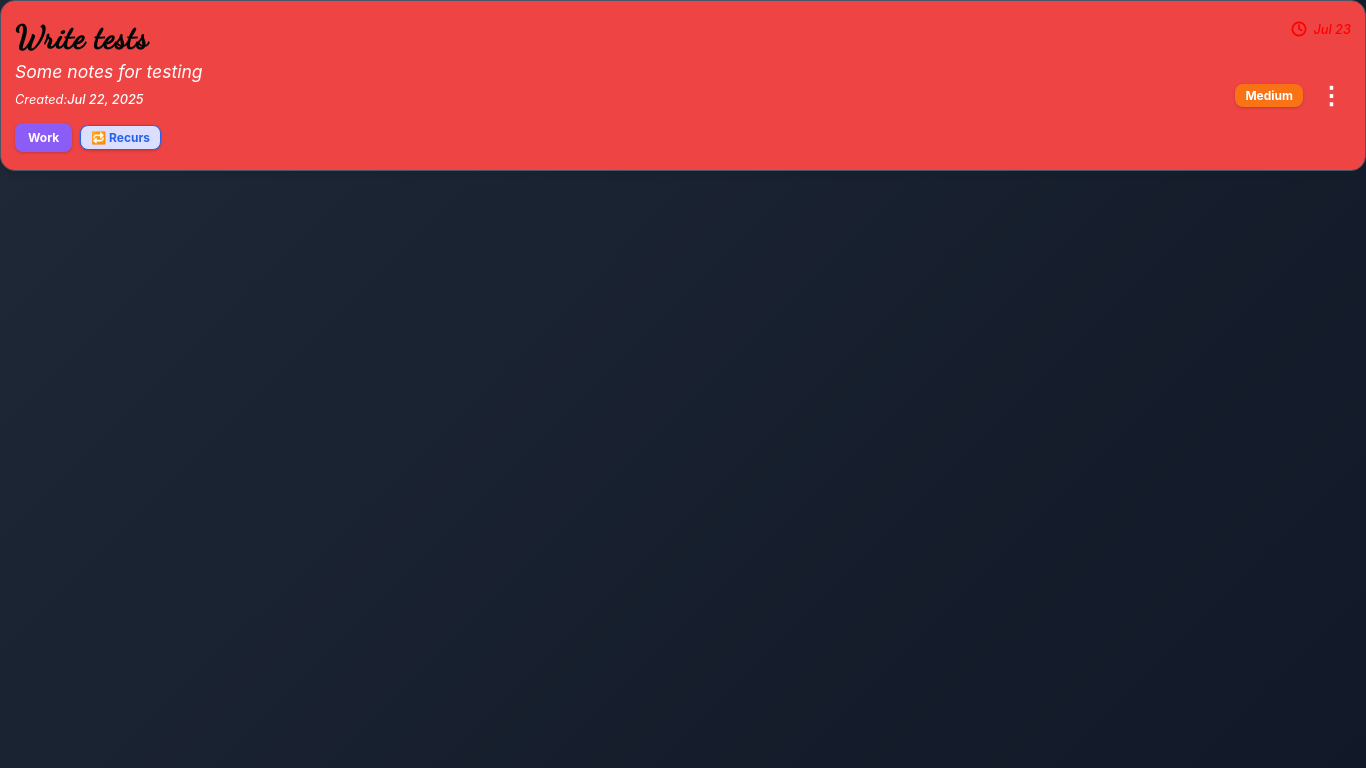
Test case: TodoItem › shows tooltips and recurrence popup correctly
The width and height of the screenshot is (1366, 768).
Hover over the text "Created:Jul 22, 2025".
mouse_move(79, 100)  # box [15,92,144,107]
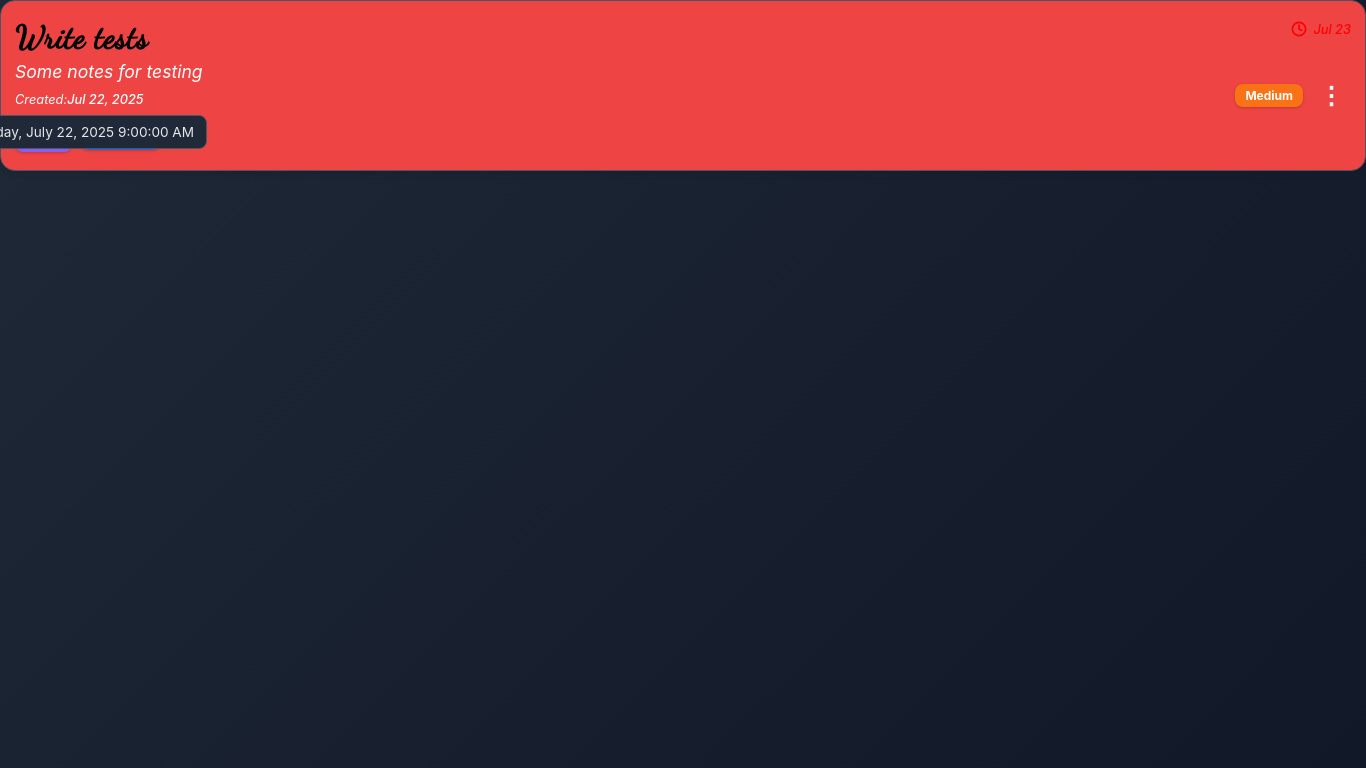
Move the pointer off the text "Created:Jul 22, 2025", box [15,92,144,107]
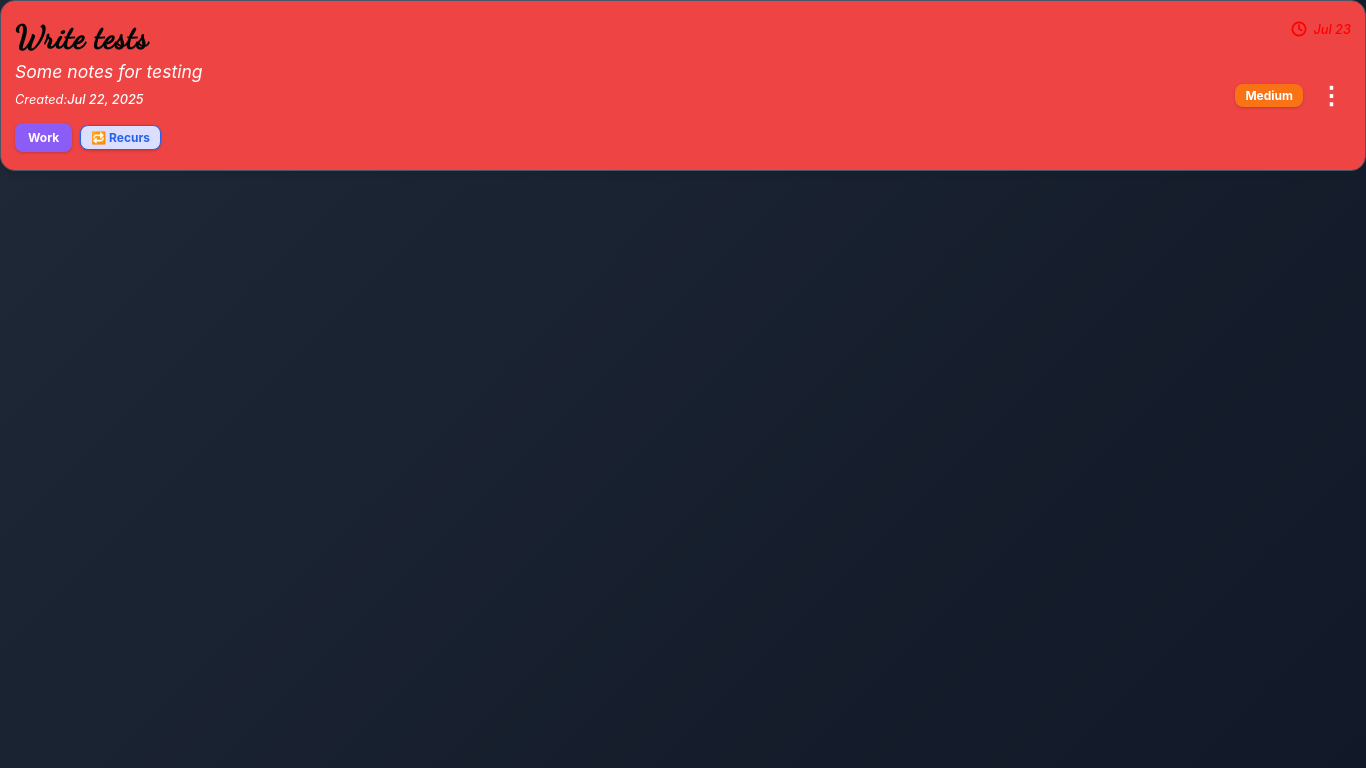
Click the text "🔁 Recurs".
click(121, 138)  # box [80,125,161,150]
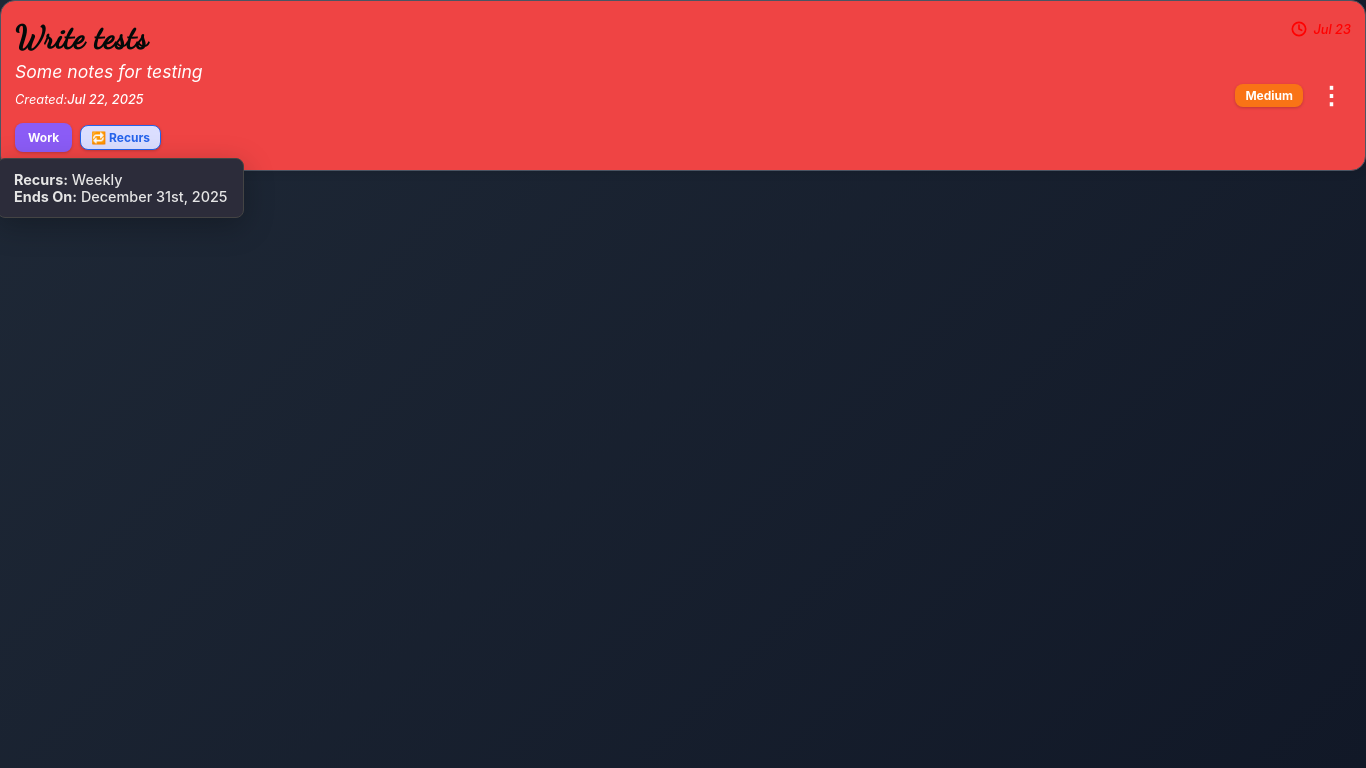
expect the text "Recurs:" is shown: met, box [14,171,68,188]
Press the mouse on the element that starts with "Write tests" at [683, 384], box [0,0,1365,767]
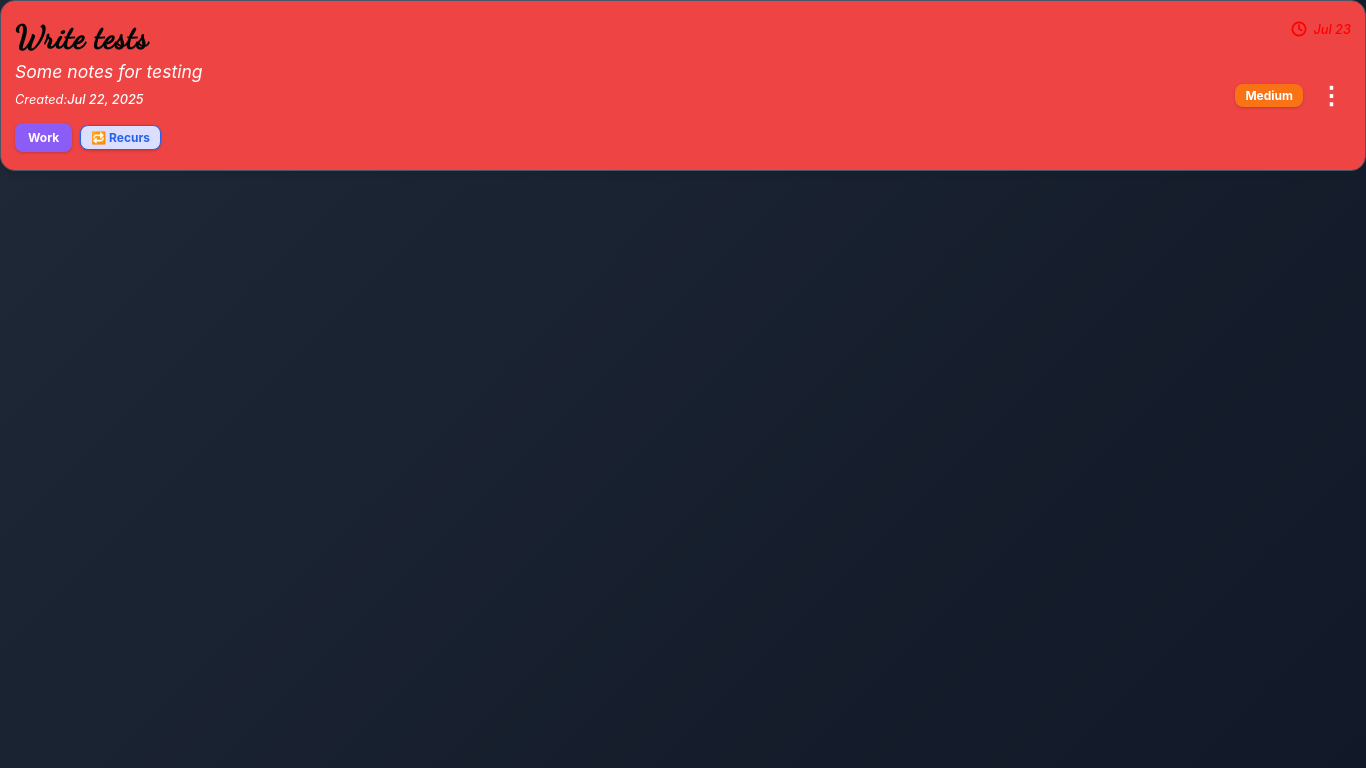
expect the text "Recurs:" is gone: met
